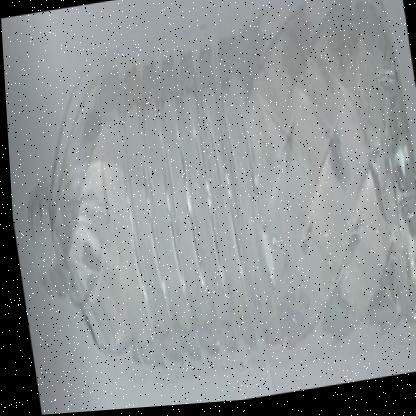open bottle: (1, 4, 143, 416)
